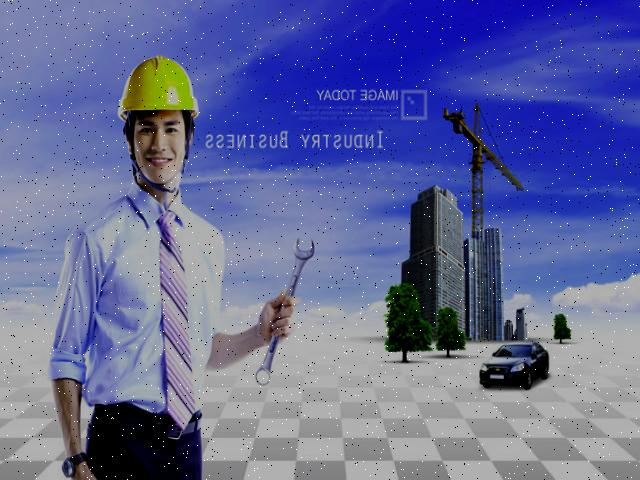Helmet: (116, 51, 202, 130)
